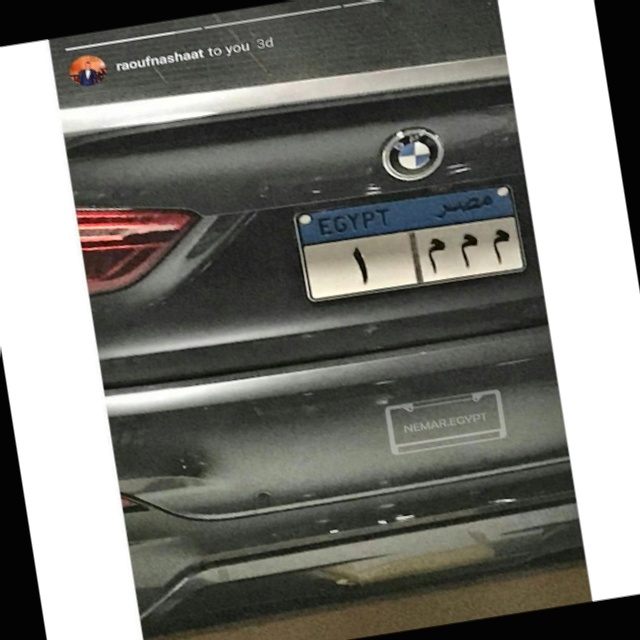License Plate: (285, 173, 532, 310)
